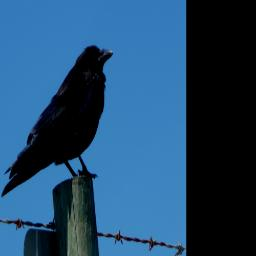Crow: (0, 38, 123, 204)
